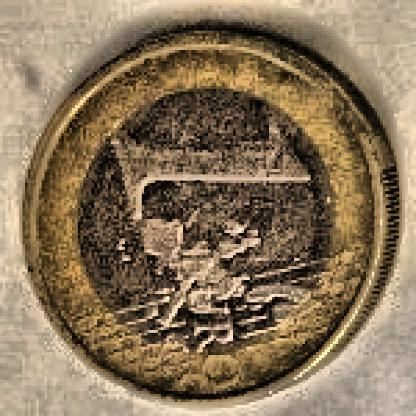coin: (21, 26, 400, 408)
